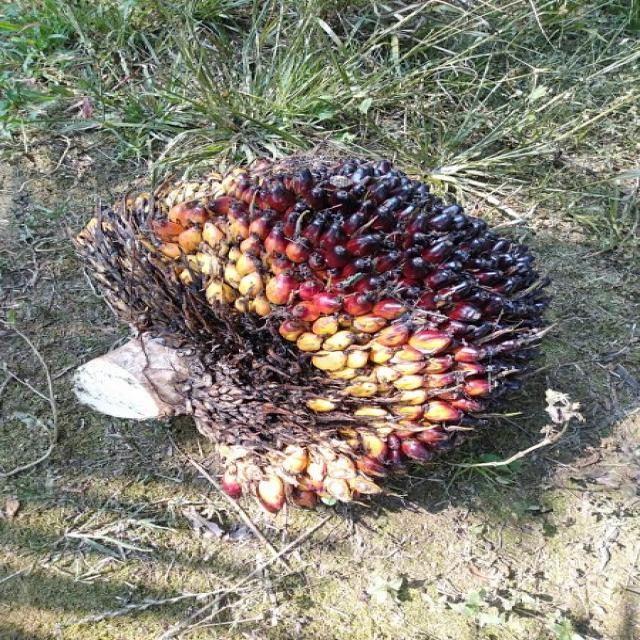fraksi 00: (93, 91, 599, 558)
